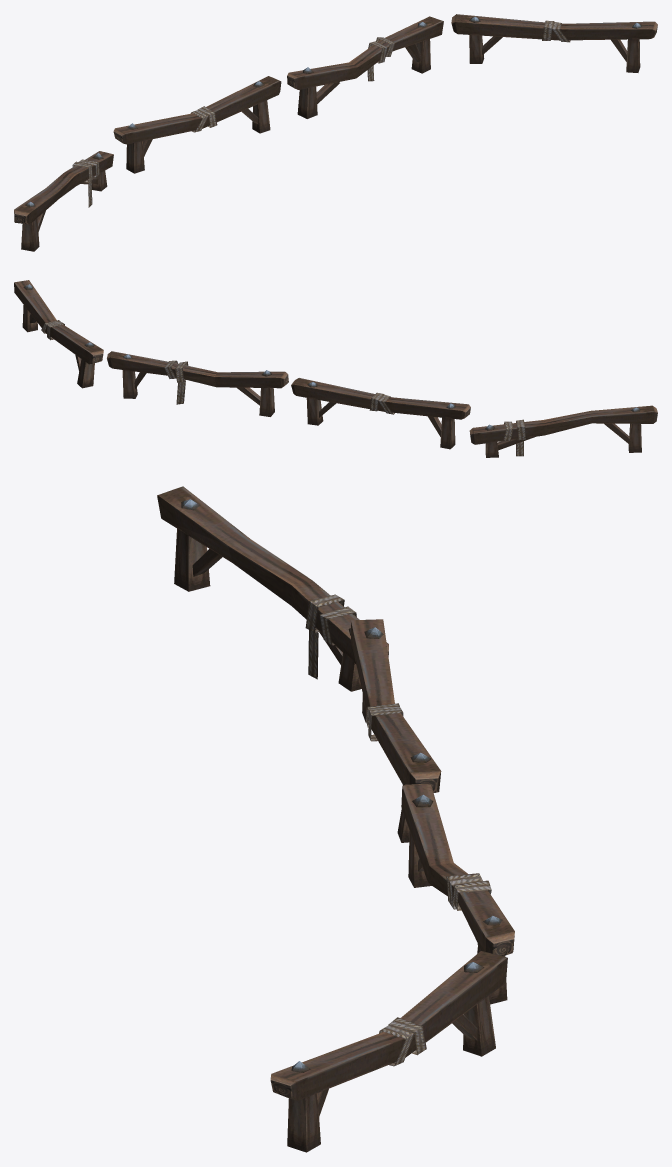
File: object_wooden_fences.fbx
3 renders of one model, top to bottom at view 1: azimuth 30°, elevation 25°; view 2: azimuth 150°, elevation 25°; view 3: azimuth 270°, elevation 25°, orthographic. The views are drawn at different scales.
Parts seen in each view (by area): view 1: obj1.036; view 2: obj1.036; view 3: obj1.036.
Part boxes in pixels (x1,y1,x2,y2): obj1.036: (14, 14, 657, 251); obj1.036: (14, 280, 657, 457); obj1.036: (157, 486, 514, 1152).
Bounding box in the file's own units: 23.36 × 1.88 × 5.89.
